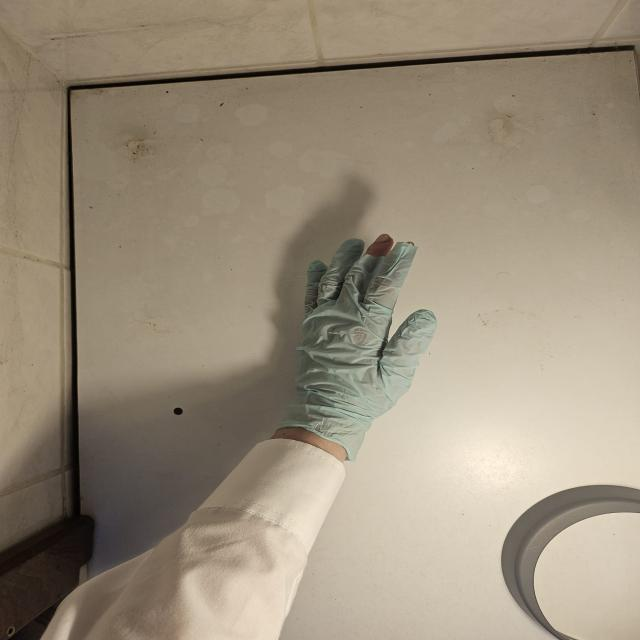gloves_damaged: (270, 229, 431, 462)
